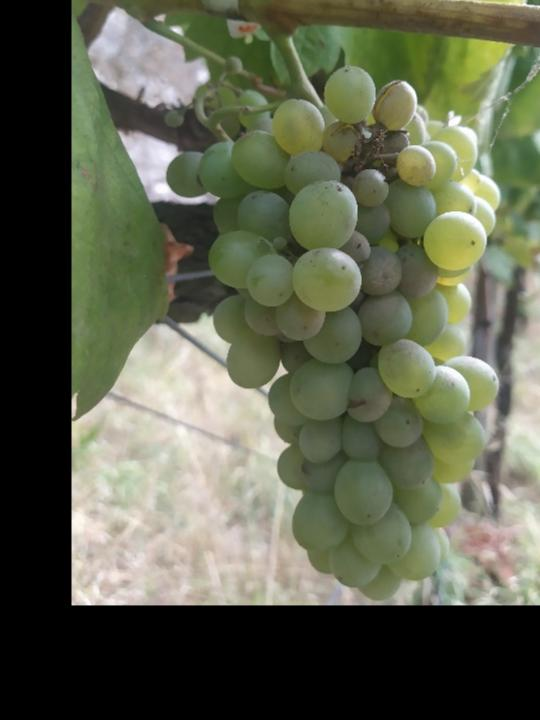grape: (163, 56, 508, 602)
